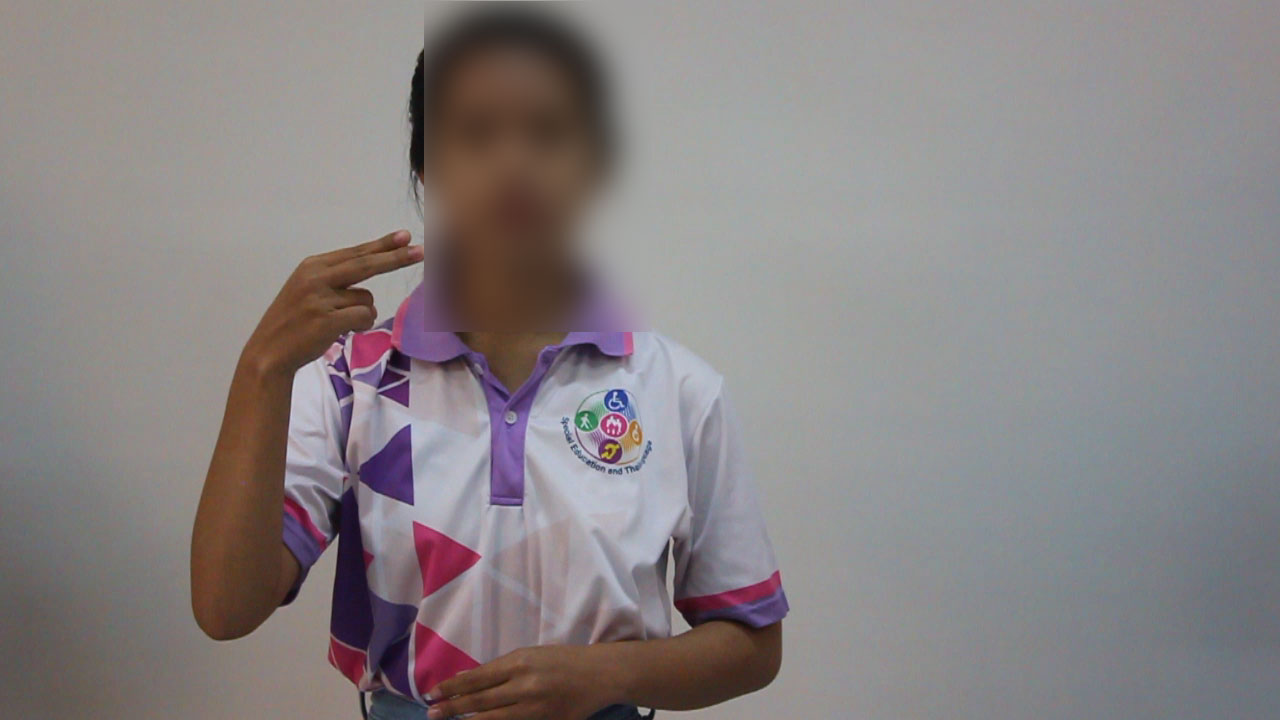hor: (219, 223, 445, 384)
